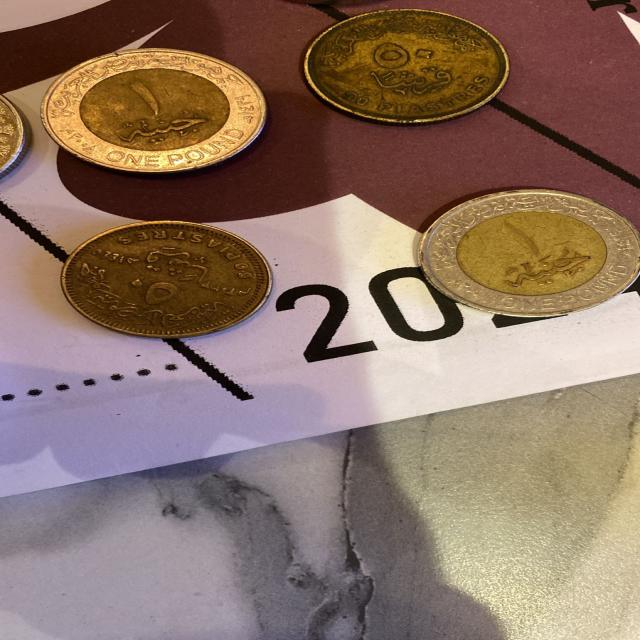Half Pound: (48, 216, 276, 338)
One Pound: (404, 191, 640, 319)
